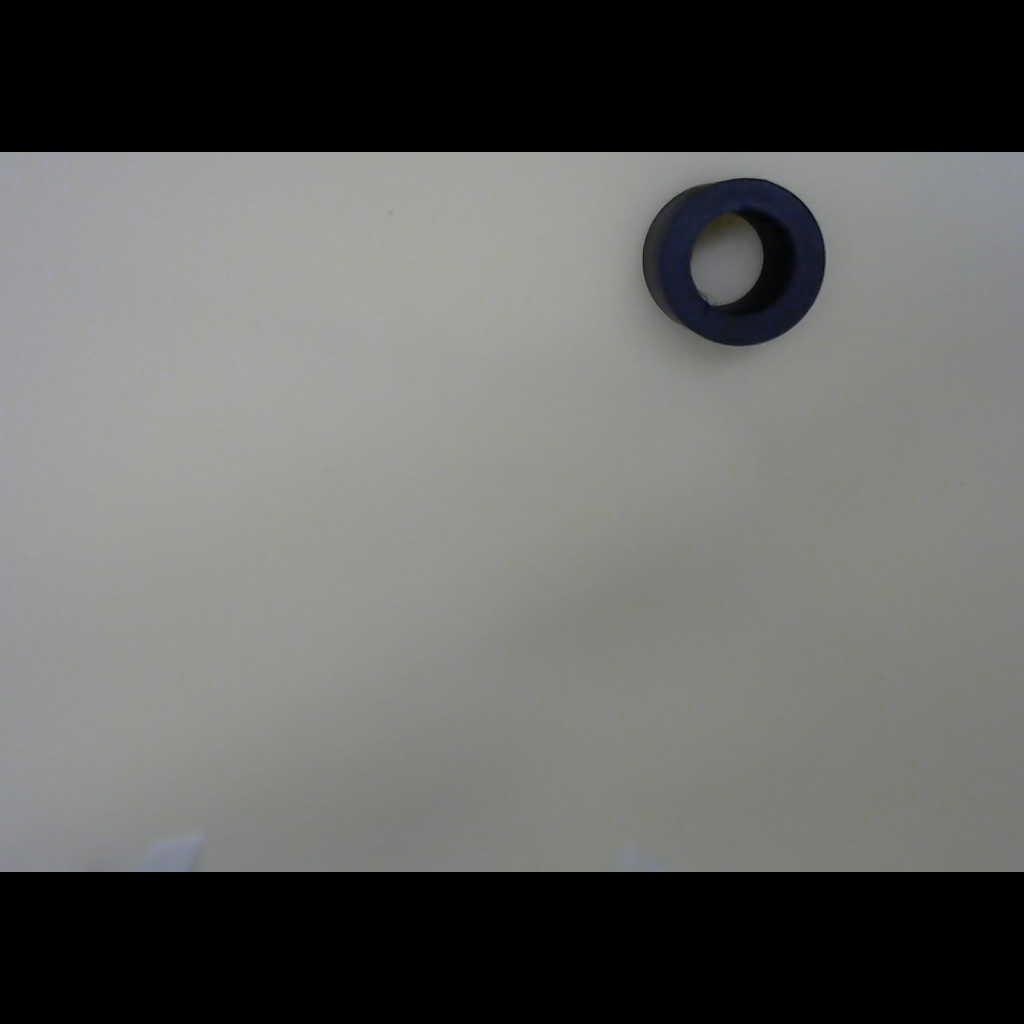ring: (627, 164, 849, 365)
